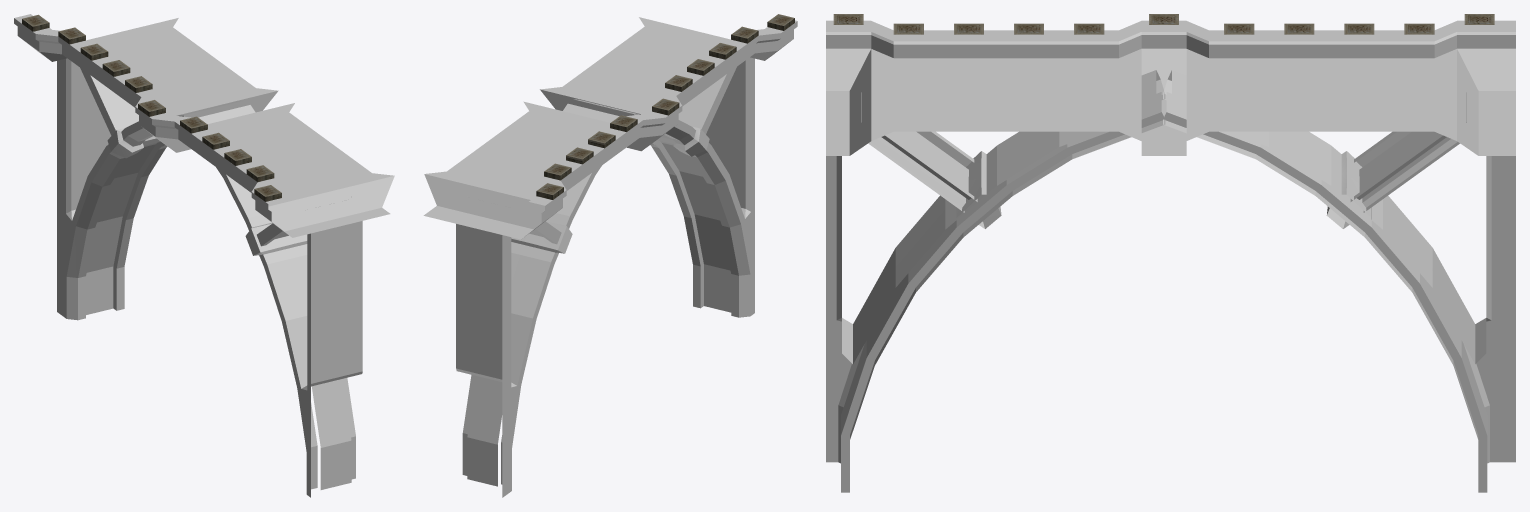
Rendered from SM_BridgeCourtyard_area01.FBX.
3 renders of one model, left to right at view 1: azimuth 30°, elevation 25°; view 2: azimuth 150°, elevation 25°; view 3: azimuth 270°, elevation 25°, orthographic. The views are drawn at different scales.
Parts seen in each view (by area): view 1: SM_BridgeCourtyard_area01; view 2: SM_BridgeCourtyard_area01; view 3: SM_BridgeCourtyard_area01.
Boxes of the visible parts, x1,y1,x2,y2 form: SM_BridgeCourtyard_area01: (14, 14, 394, 497); SM_BridgeCourtyard_area01: (423, 14, 797, 497); SM_BridgeCourtyard_area01: (826, 14, 1515, 492).
Size of what is drawn, in the model's own units: 957 by 2937 by 1973.
